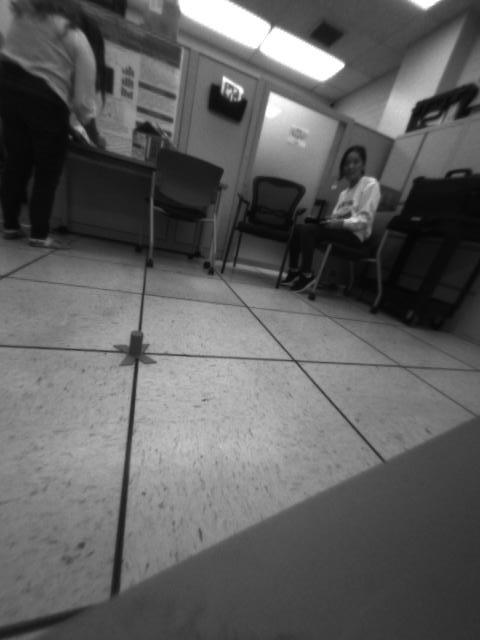X: (113, 331, 158, 368)
